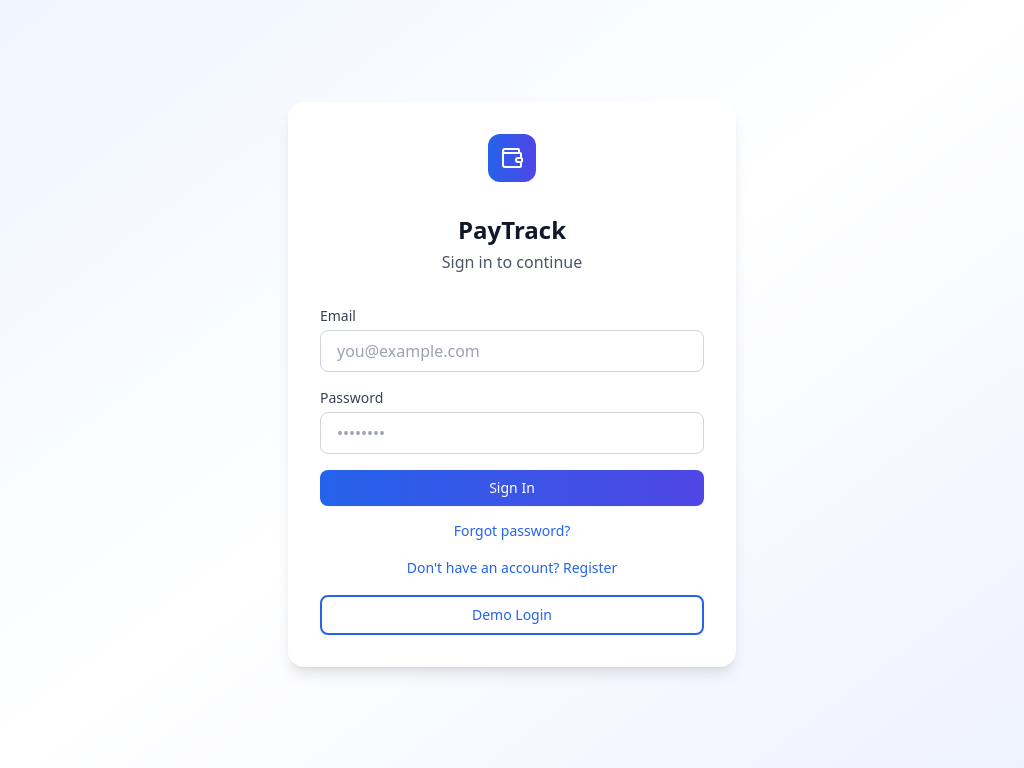
Test: LoginPage — sign-in flow › shows a loading state on the submit button while the mutation is in flight
The width and height of the screenshot is (1024, 768).
Type "q@x.com" into the field labelled "Email" at (512, 350), box [320, 330, 704, 372]
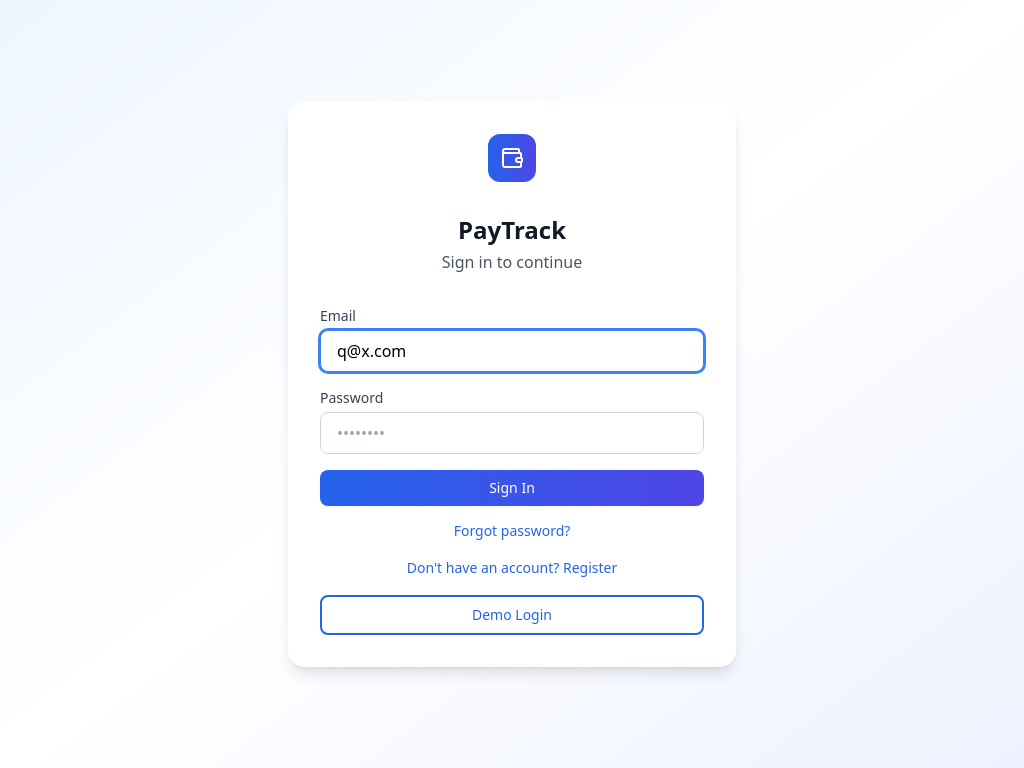
Type "pw1234567" into the password field labelled "Password" at (512, 432), box [320, 412, 704, 454]
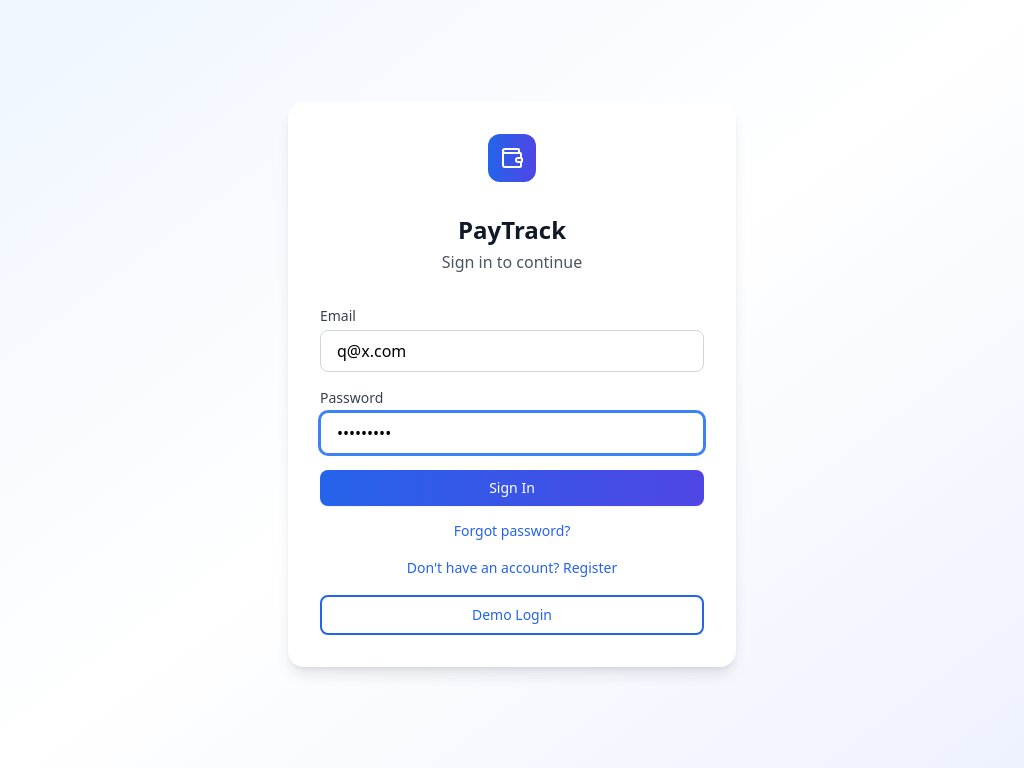
Click the button "Sign In" at (512, 488), box [320, 470, 704, 506]
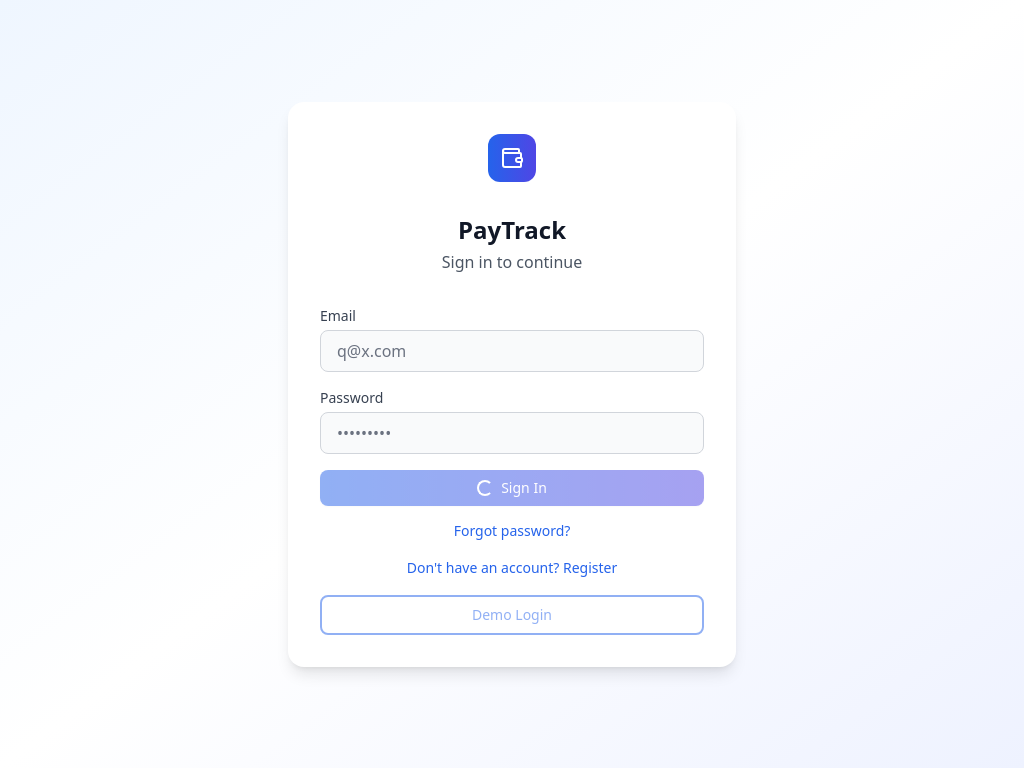
Expected: the button "Sign In" is disabled, [320, 470, 704, 506]
